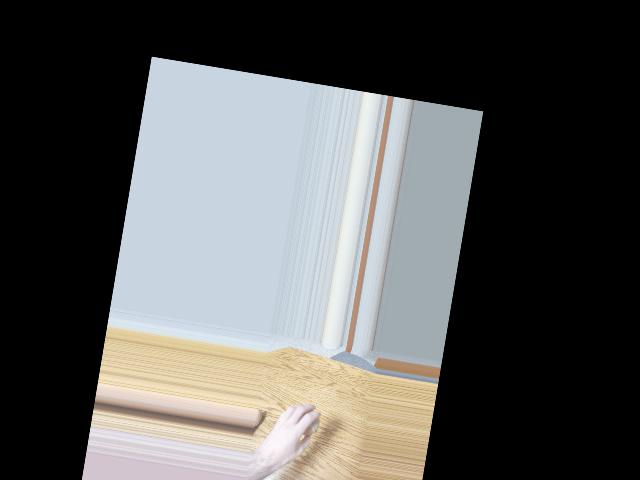onion: (292, 405, 322, 439)
